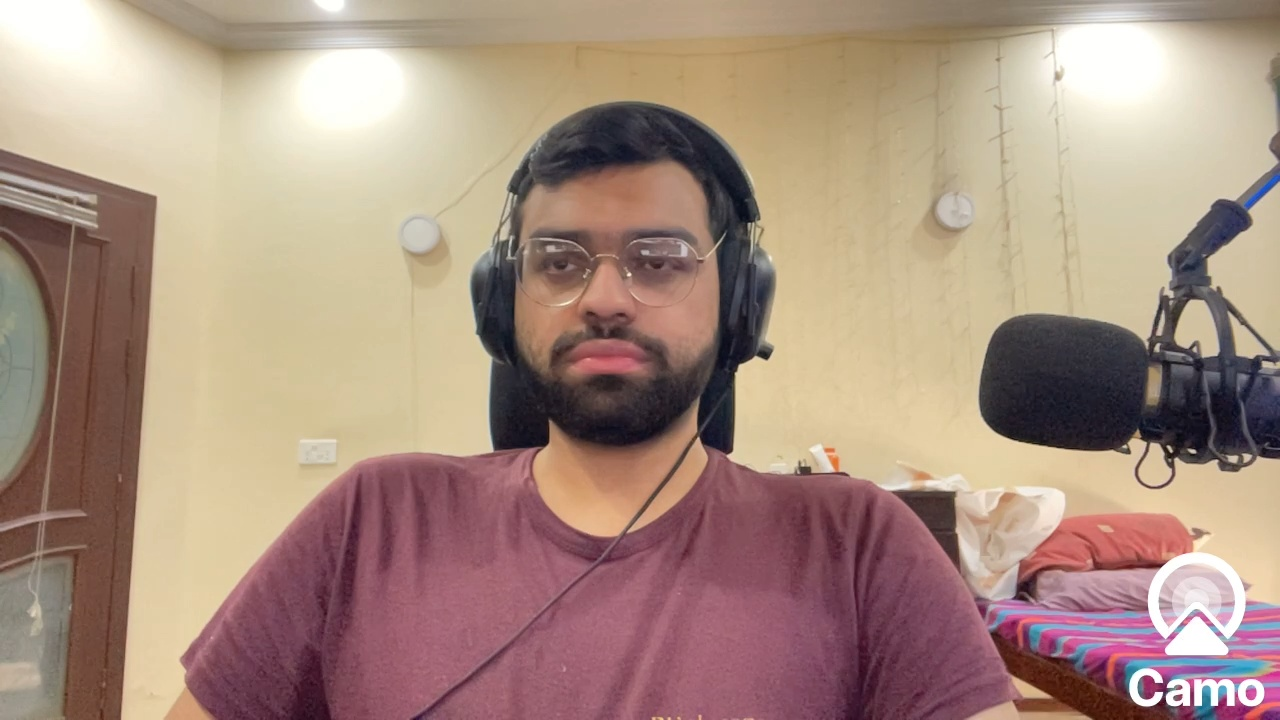neutral: (514, 157, 720, 434)
